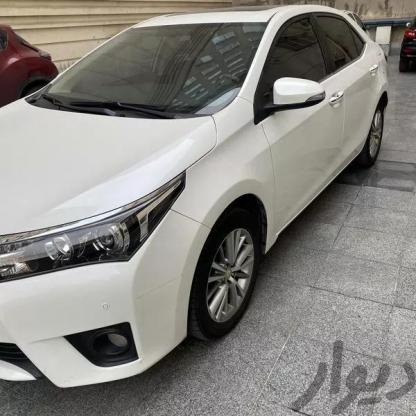Car: (0, 11, 390, 381), (0, 10, 67, 113), (392, 18, 416, 76)
